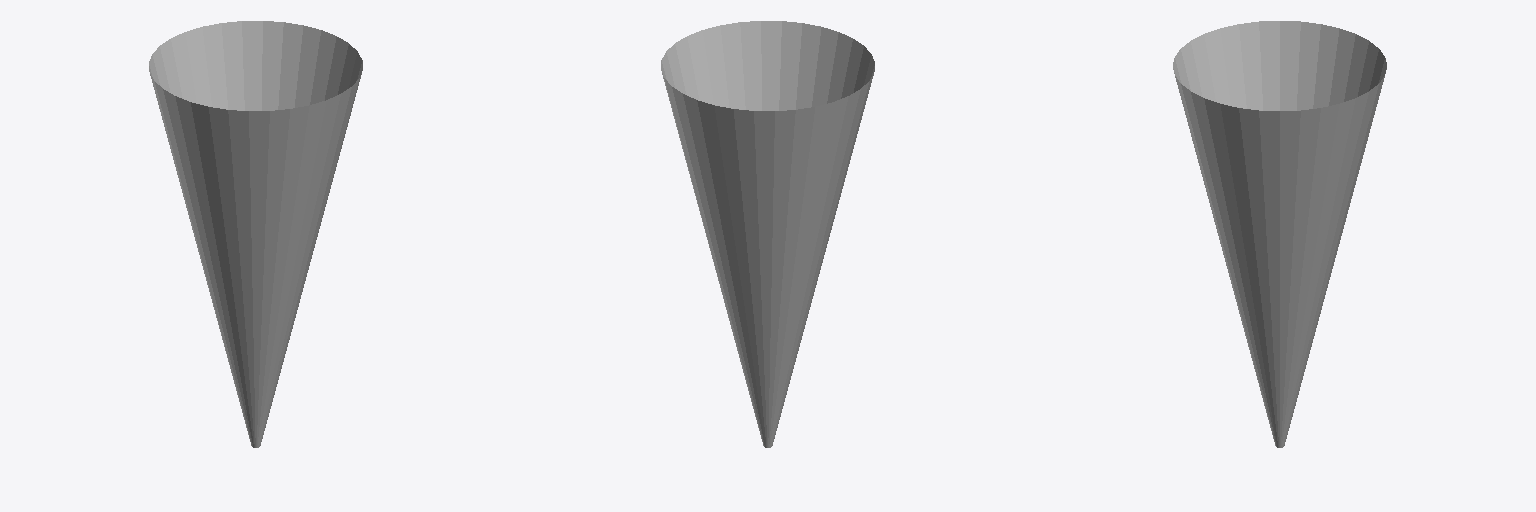
File: tracerCylinder.obj
3 renders of one model, left to right at view 1: azimuth 30°, elevation 25°; view 2: azimuth 150°, elevation 25°; view 3: azimuth 270°, elevation 25°, orthographic.
Visible parts, largest first — view 1: Mesh_Mesh_Cylinder; view 2: Mesh_Mesh_Cylinder; view 3: Mesh_Mesh_Cylinder.
Part boxes in pixels (x1,y1,x2,y2): Mesh_Mesh_Cylinder: (149, 21, 362, 447); Mesh_Mesh_Cylinder: (661, 21, 874, 447); Mesh_Mesh_Cylinder: (1173, 21, 1386, 447).
Bounding box in the file's own units: 7.14 × 13.95 × 7.14.